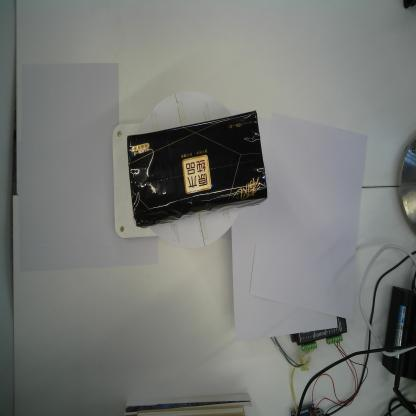Tissue: (126, 109, 268, 230)
